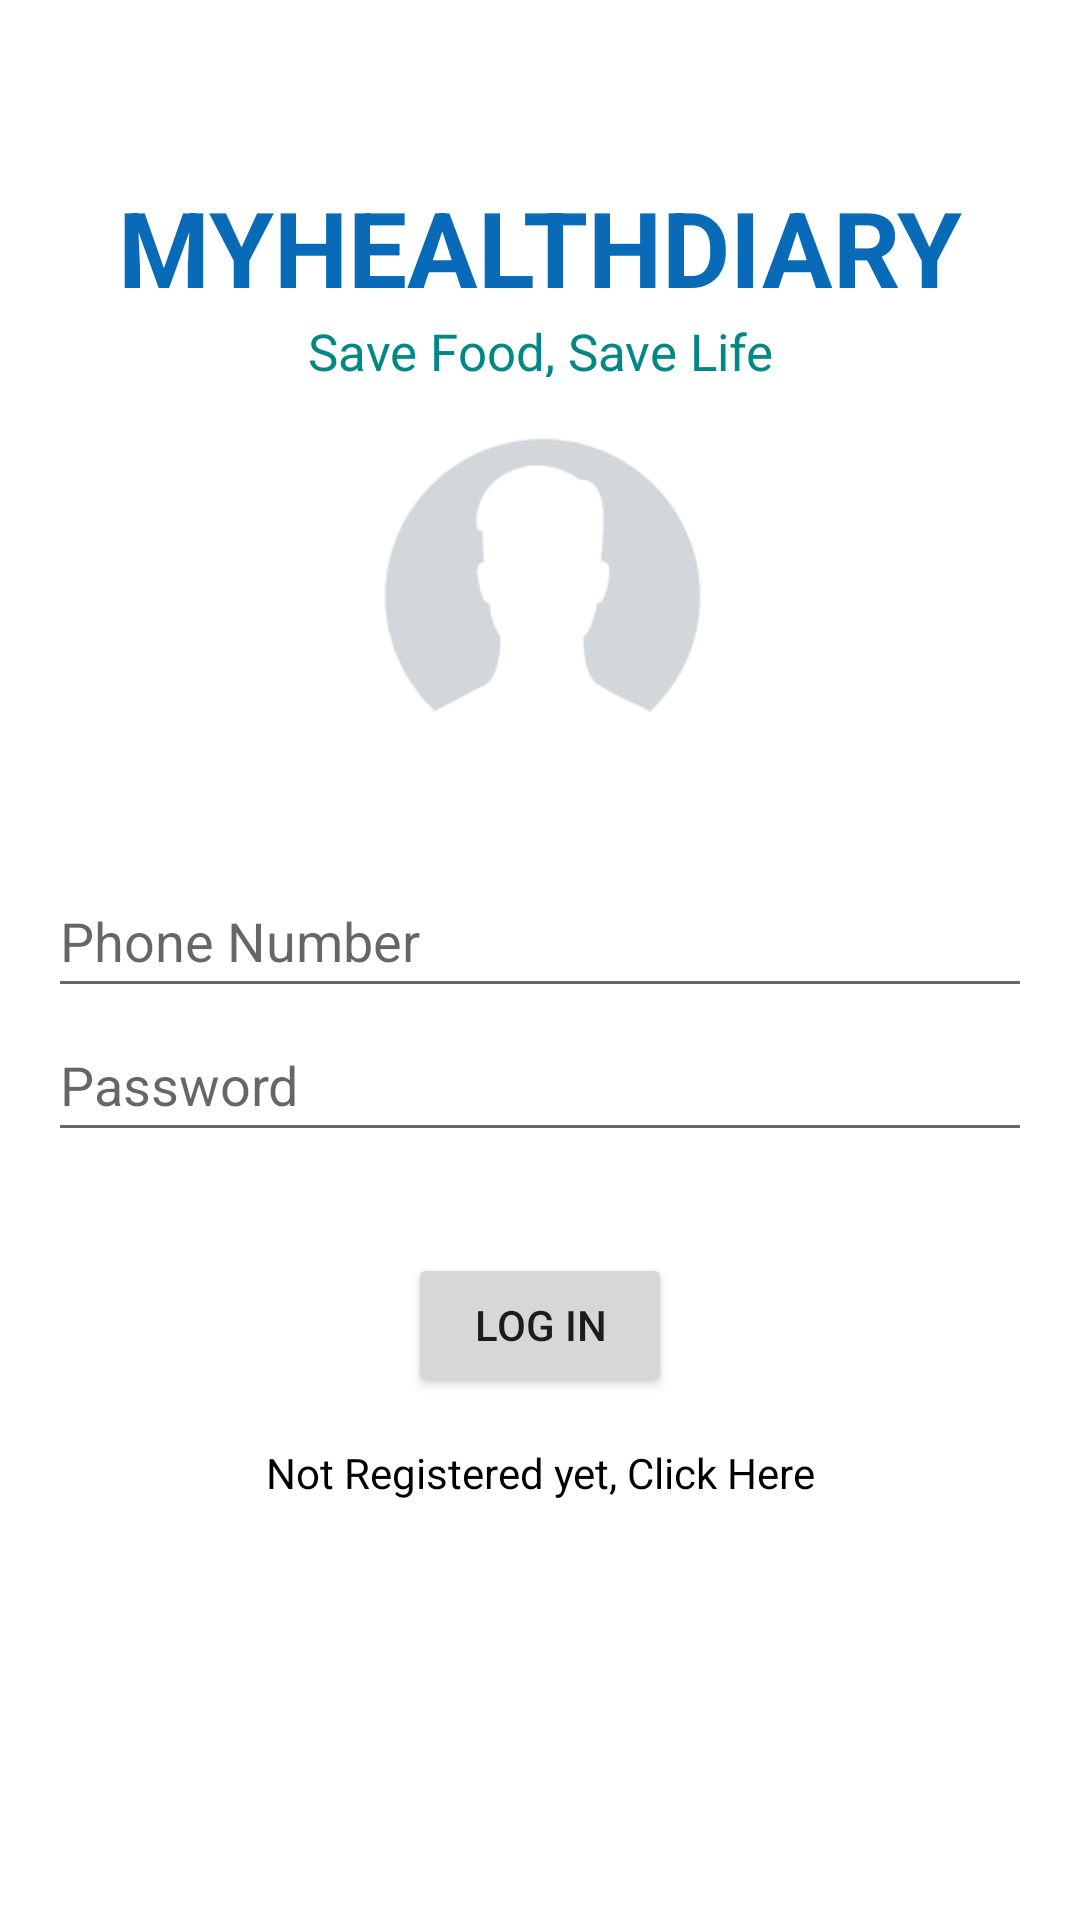

Icons on this 1080w x 1920h Android screen, each with the point to tap as [x,y]:
profile: [542,575]
